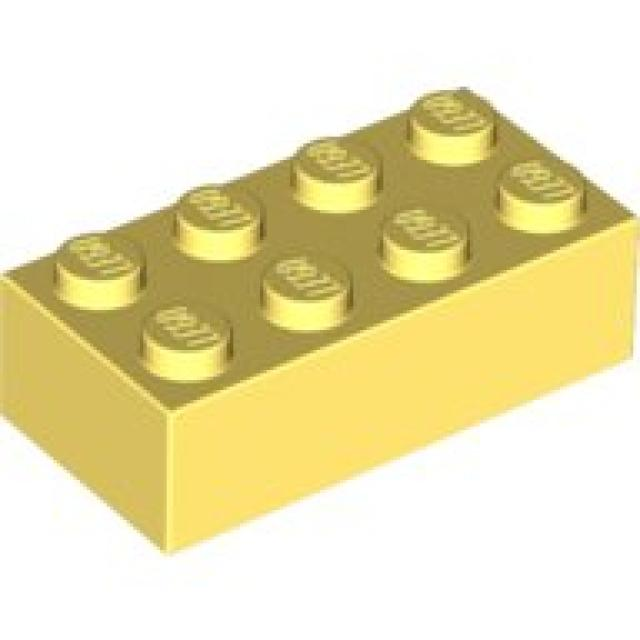Yellow_Large: (7, 87, 640, 557)
